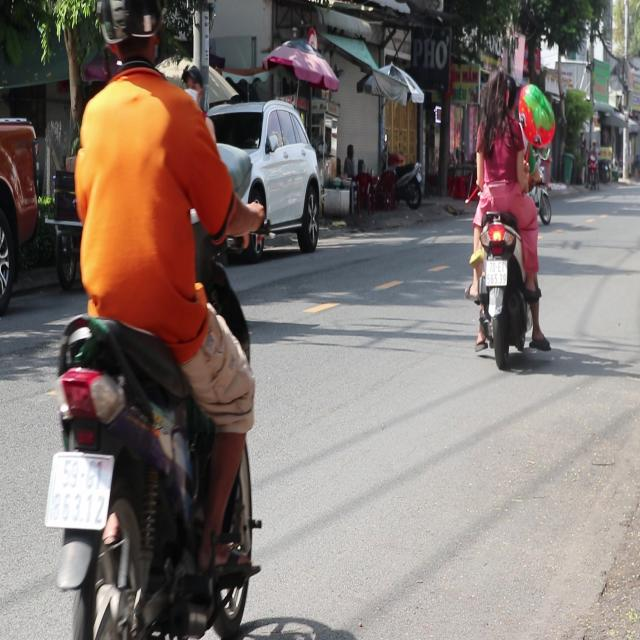licenseplate: (39, 0, 269, 633), (463, 63, 549, 367)
motorcyclist: (484, 67, 510, 118), (503, 70, 522, 118)
nohelmet: (46, 452, 113, 528), (485, 260, 507, 286)
